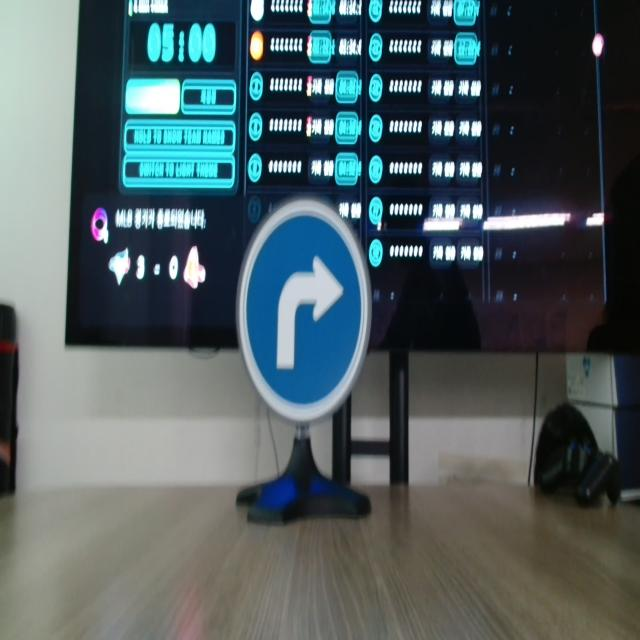right_dierection: (227, 196, 376, 420)
